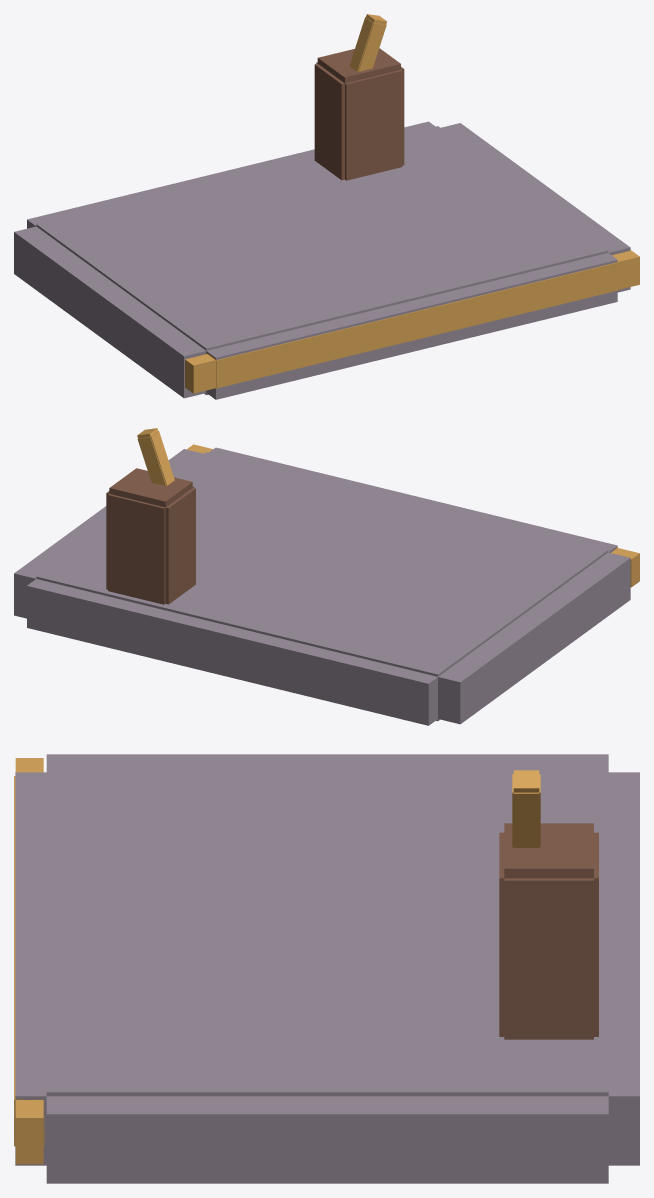
File: LiftPlatform.fbx
The picture shows the model from 3 angles, top to bottom: view 1: azimuth 30°, elevation 25°; view 2: azimuth 150°, elevation 25°; view 3: azimuth 270°, elevation 25°; orthographic projection. The views are drawn at different scales.
Parts seen in each view (by area): view 1: SM_LiftPlatform_MOVABLE, PROP_LiftPlatform_Trim, PROP_LiftOnboardControl, PROP_LiftOnboardLever; view 2: SM_LiftPlatform_MOVABLE, PROP_LiftOnboardControl, PROP_LiftOnboardLever, PROP_LiftPlatform_Trim; view 3: SM_LiftPlatform_MOVABLE, PROP_LiftOnboardControl, PROP_LiftPlatform_Trim, PROP_LiftOnboardLever.
Part boxes in pixels (x1,y1,x2,y2): SM_LiftPlatform_MOVABLE: [14, 121, 630, 399]; PROP_LiftPlatform_Trim: [185, 250, 639, 393]; PROP_LiftOnboardControl: [314, 48, 404, 180]; PROP_LiftOnboardLever: [349, 14, 386, 71]; SM_LiftPlatform_MOVABLE: [14, 447, 630, 725]; PROP_LiftOnboardControl: [106, 468, 195, 604]; PROP_LiftOnboardLever: [137, 428, 174, 485]; PROP_LiftPlatform_Trim: [187, 444, 639, 587]; SM_LiftPlatform_MOVABLE: [15, 754, 639, 1183]; PROP_LiftOnboardControl: [499, 823, 598, 1039]; PROP_LiftPlatform_Trim: [14, 758, 45, 1164]; PROP_LiftOnboardLever: [512, 770, 540, 847].
Bounding box in the file's own units: 300 × 221 × 126.
